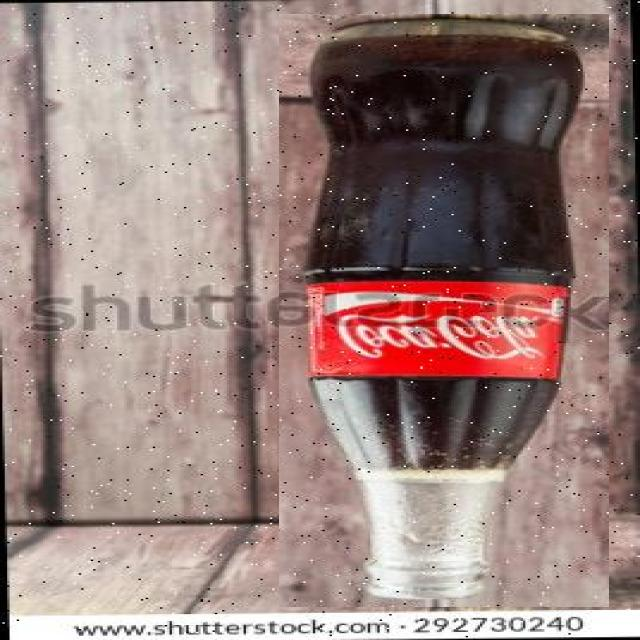coca-cola: (279, 14, 609, 607)
